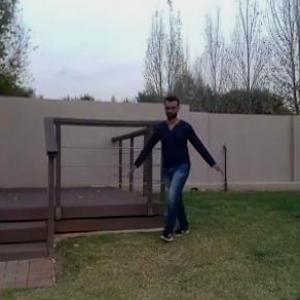land: (124, 86, 227, 263)
